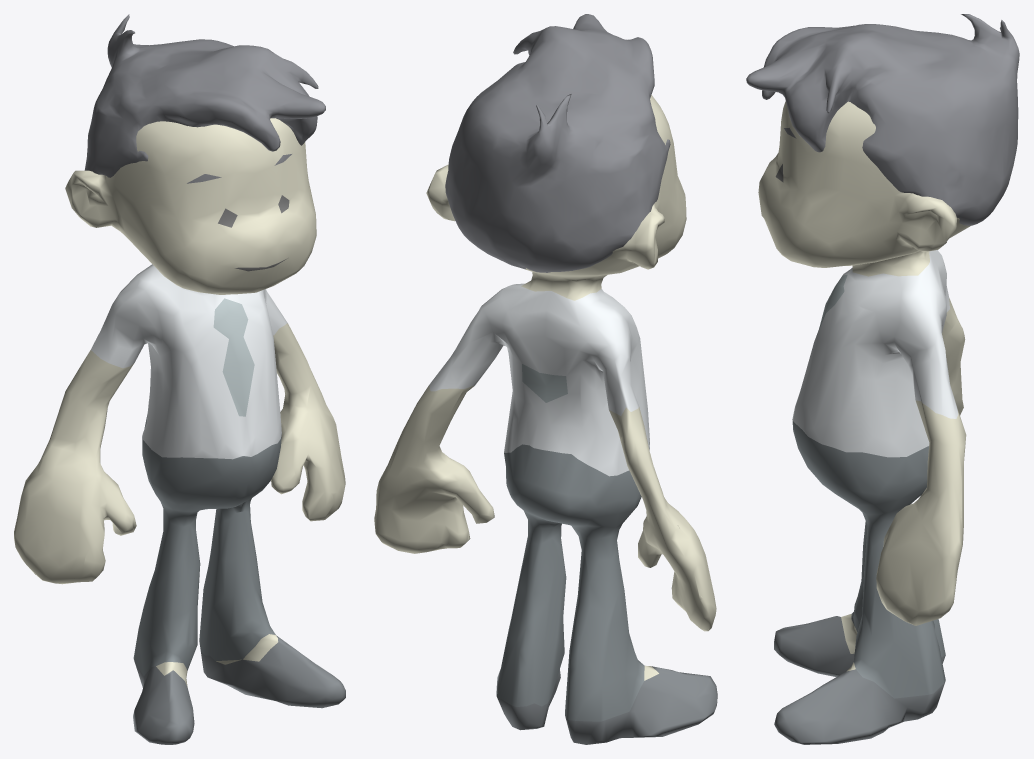
The model's file is nekutai.fbx.
3 views of the same model, side by side, from view 1: azimuth 30°, elevation 25°; view 2: azimuth 150°, elevation 25°; view 3: azimuth 270°, elevation 25° (orthographic). The views are drawn at different scales.
Visible parts, largest first — view 1: PM3D_Sphere3D1_3; view 2: PM3D_Sphere3D1_3; view 3: PM3D_Sphere3D1_3.
Boxes of the visible parts, left/top/right/bottom form: PM3D_Sphere3D1_3: left=14, top=14, right=345, bottom=744; PM3D_Sphere3D1_3: left=374, top=14, right=717, bottom=744; PM3D_Sphere3D1_3: left=746, top=14, right=1019, bottom=744.
Bounding box in the file's own units: 5.06 × 9.77 × 3.56.
